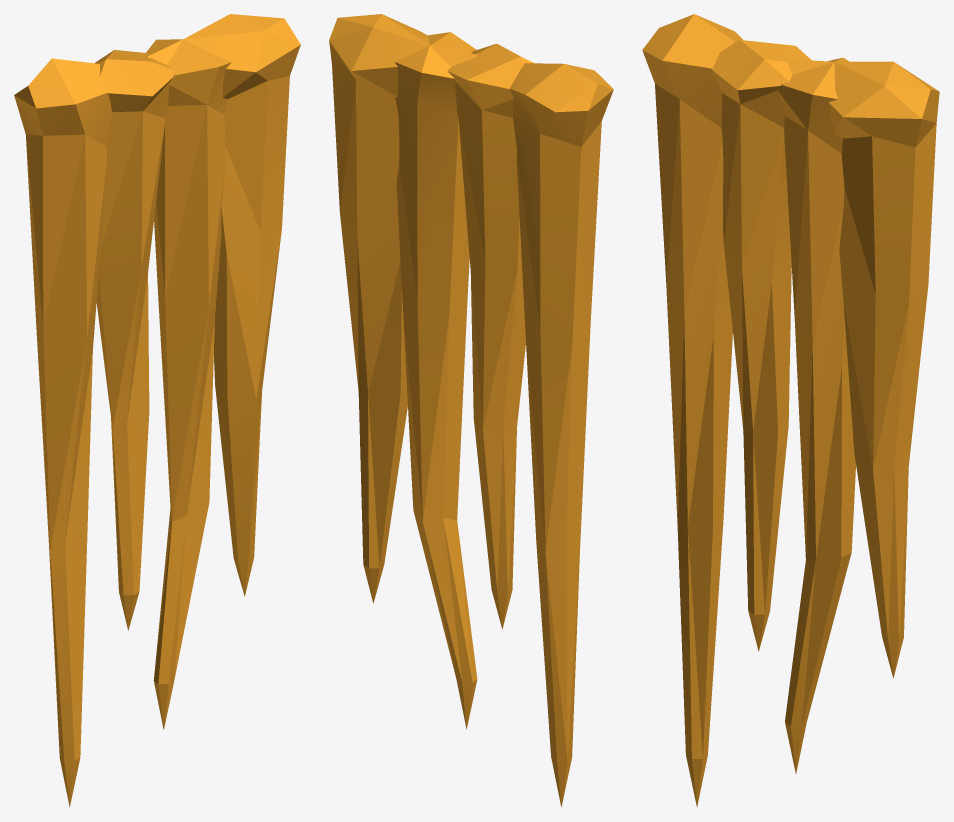
The model's file is SM_Icicle_Group_A.fbx.
3 views of the same model, side by side, from view 1: azimuth 30°, elevation 25°; view 2: azimuth 150°, elevation 25°; view 3: azimuth 330°, elevation 25° (orthographic). The views are drawn at different scales.
Visible parts, largest first — view 1: icicle-group-a; view 2: icicle-group-a; view 3: icicle-group-a.
Part boxes in pixels (bbox=[...]): icicle-group-a: bbox=[14, 14, 300, 807]; icicle-group-a: bbox=[329, 14, 613, 807]; icicle-group-a: bbox=[642, 14, 939, 807].
Bounding box in the file's own units: 1.09 × 2.94 × 0.3659.
